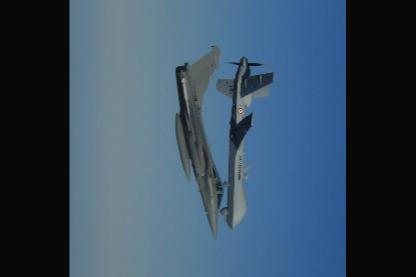MQ9: (216, 55, 274, 238)
RQ4: (176, 46, 226, 240)
